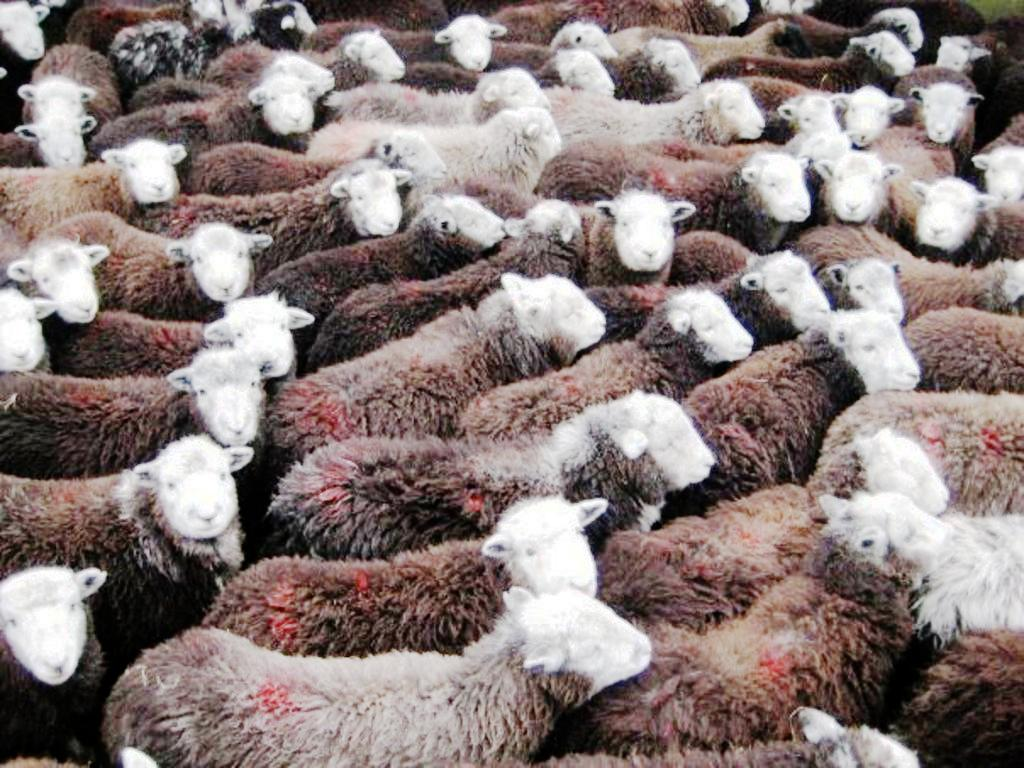Sheep: (94, 603, 659, 768), (29, 390, 283, 719), (320, 377, 713, 543), (669, 495, 953, 711), (277, 279, 603, 437), (679, 421, 959, 603), (336, 489, 636, 609), (7, 349, 283, 457), (569, 281, 755, 426), (729, 301, 933, 433), (0, 557, 105, 768), (10, 130, 209, 234), (67, 289, 311, 370), (333, 183, 509, 286), (116, 215, 275, 306), (562, 178, 688, 292), (239, 167, 409, 249), (749, 53, 895, 145), (699, 241, 829, 336), (714, 128, 825, 238), (573, 73, 761, 137), (160, 73, 321, 147), (386, 107, 563, 172), (808, 150, 922, 243), (917, 169, 1023, 257), (3, 243, 117, 322), (17, 45, 111, 136), (897, 63, 989, 155), (323, 1, 429, 76), (410, 63, 549, 118), (425, 11, 513, 79), (0, 291, 53, 379), (979, 115, 1024, 206), (641, 25, 708, 82), (0, 2, 71, 55), (539, 25, 623, 60)
